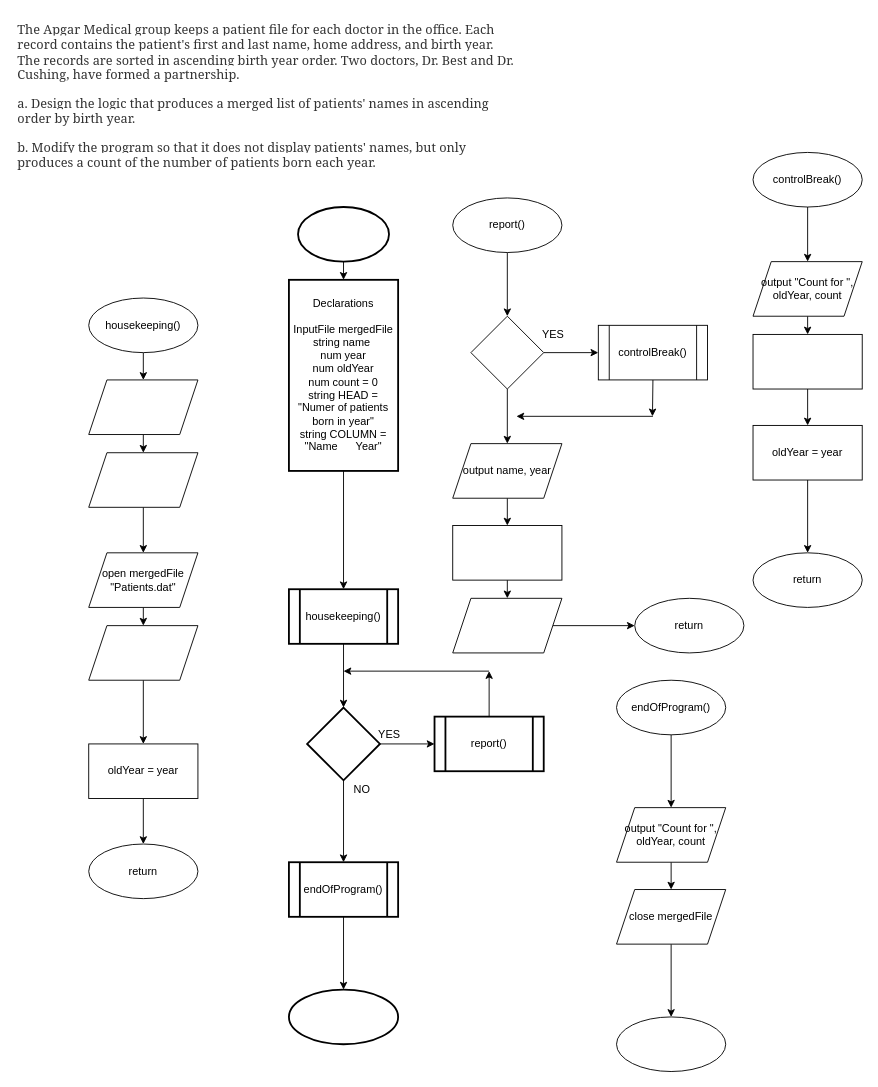
Some shapes in this 878 by 1087 pixel diagram are drawn without their labels. The shapes that lost their labels are listed below. From the top down, each one's box as (x1, y1, x2, y2) in pixels, then its label:
(297, 206, 389, 262): start
(470, 315, 544, 389): year <> oldYear
(752, 334, 862, 389): count = 0
(88, 379, 198, 435): output HEAD
(88, 452, 198, 507): output COLUMN
(452, 525, 562, 580): count += 1
(452, 597, 562, 653): input name, year form mergedFile
(88, 625, 198, 680): input name, year from mergedFile
(306, 706, 380, 781): not eof?
(288, 988, 399, 1045): stop
